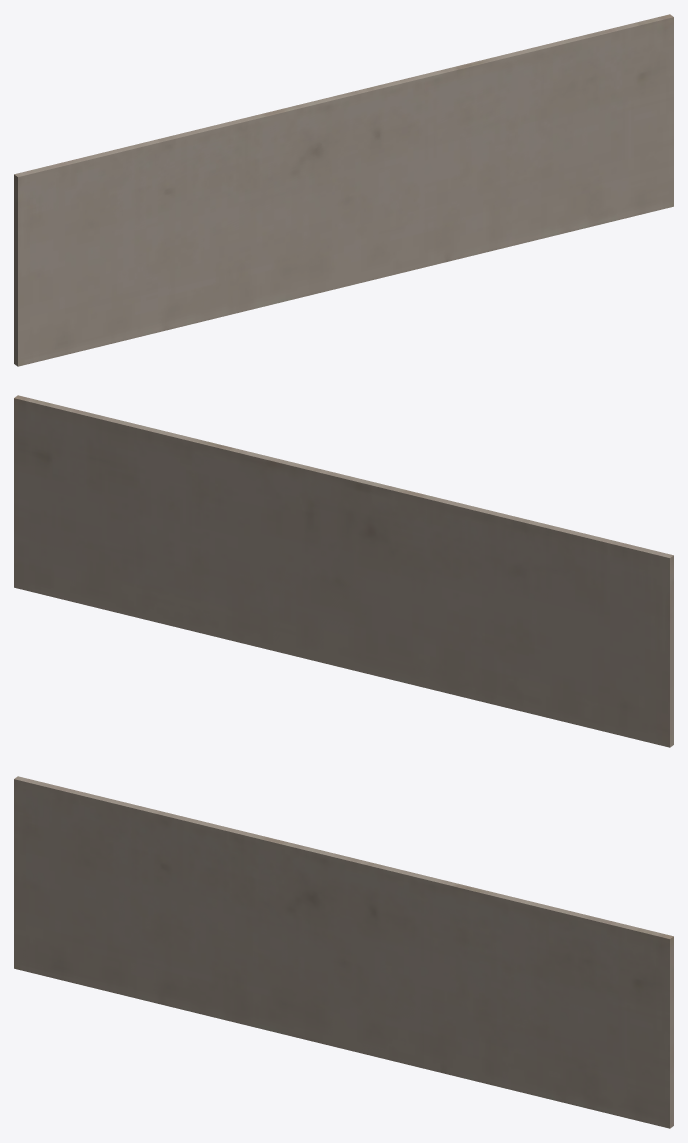
File: link_2__drawer_back-133.glb
3 renders of one model, top to bottom at view 1: azimuth 30°, elevation 25°; view 2: azimuth 150°, elevation 25°; view 3: azimuth 330°, elevation 25°, orthographic.
Visible parts, largest first — view 1: geometry_0; view 2: geometry_0; view 3: geometry_0.
Part boxes in pixels (box(x1,y1,x2,y2)): geometry_0: box(14, 14, 673, 366); geometry_0: box(14, 395, 673, 747); geometry_0: box(14, 776, 673, 1128).
Size of the model in its own units: 0.5041 by 0.1392 by 0.00525.
Materials: 1 (1 with a texture image).
